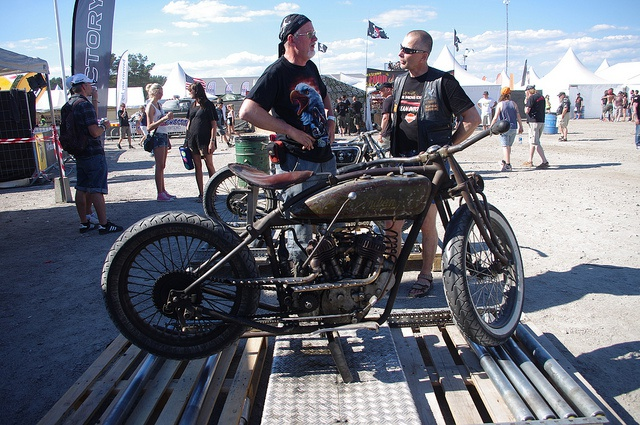non-vehicle: (98, 117, 526, 361), (203, 167, 274, 231)
